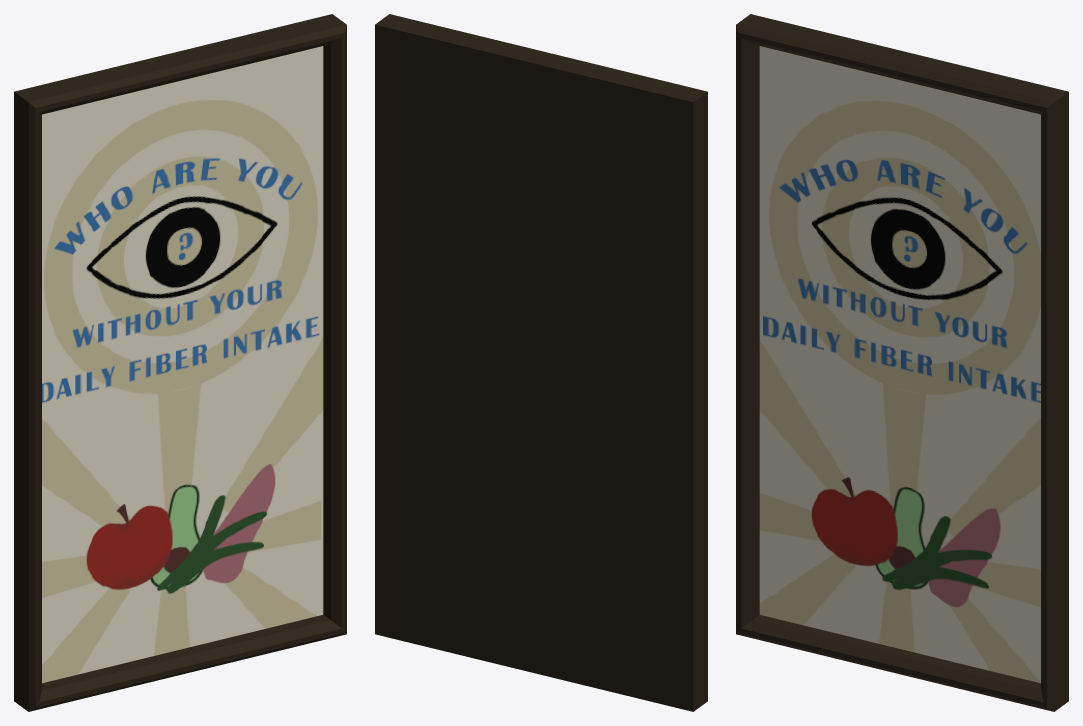
File: Poster.fbx
3 views of the same model, side by side, from view 1: azimuth 30°, elevation 25°; view 2: azimuth 150°, elevation 25°; view 3: azimuth 330°, elevation 25° (orthographic).
Parts seen in each view (by area): view 1: poster; view 2: poster; view 3: poster.
Part boxes in pixels (x1,y1,x2,y2): poster: [14, 14, 346, 711]; poster: [375, 14, 707, 711]; poster: [736, 14, 1068, 711].
Size of the model in its own units: 8.16 by 14.94 by 0.7655.
